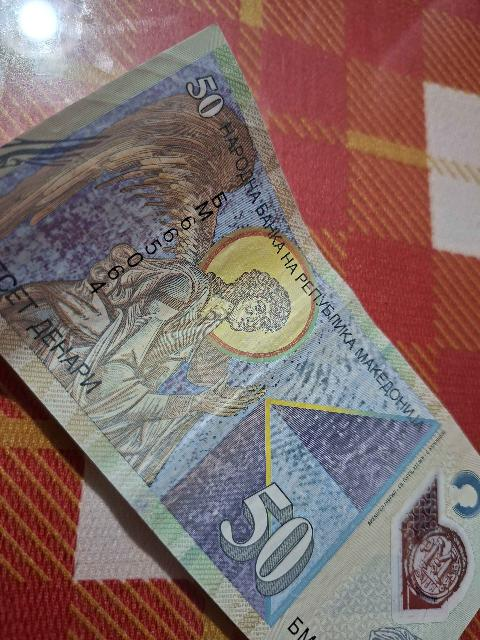50_note: (0, 27, 479, 639)
